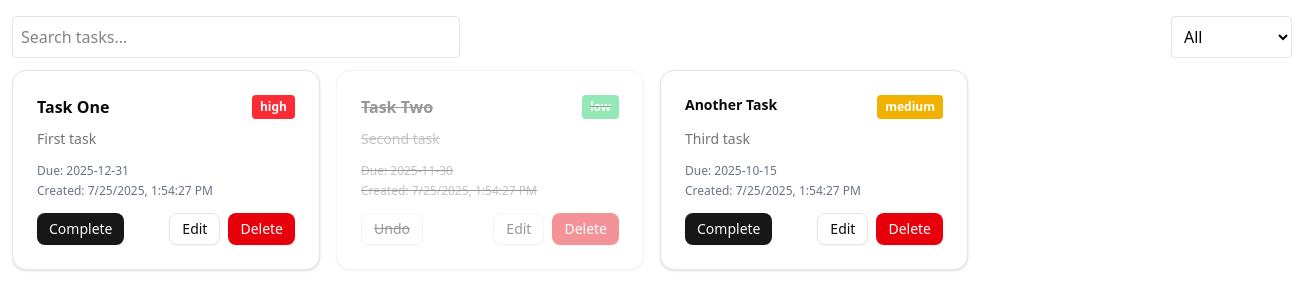
Test: TaskList › filters tasks by search term
This screenshot has width=1304, height=288.
In the field with placeholder "Search tasks...": (236, 37) [12,16,460,58], type "task one"
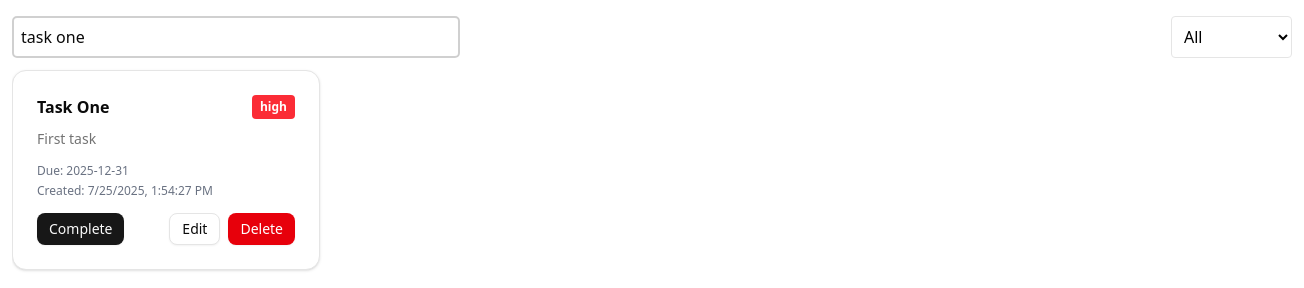
Expected: the text "Task One" is shown, [37,95,109,119]
Expected: the text "Task Two" is gone
Expected: the text "Another Task" is gone
